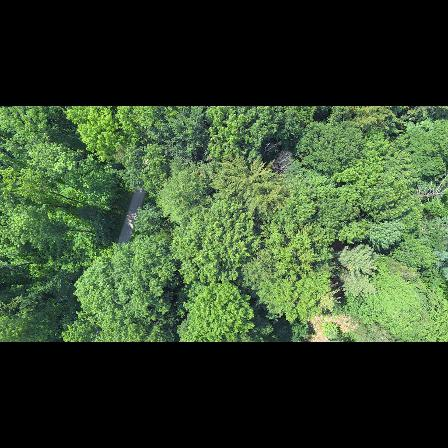Dead: (410, 174, 448, 202), (269, 150, 301, 176)
